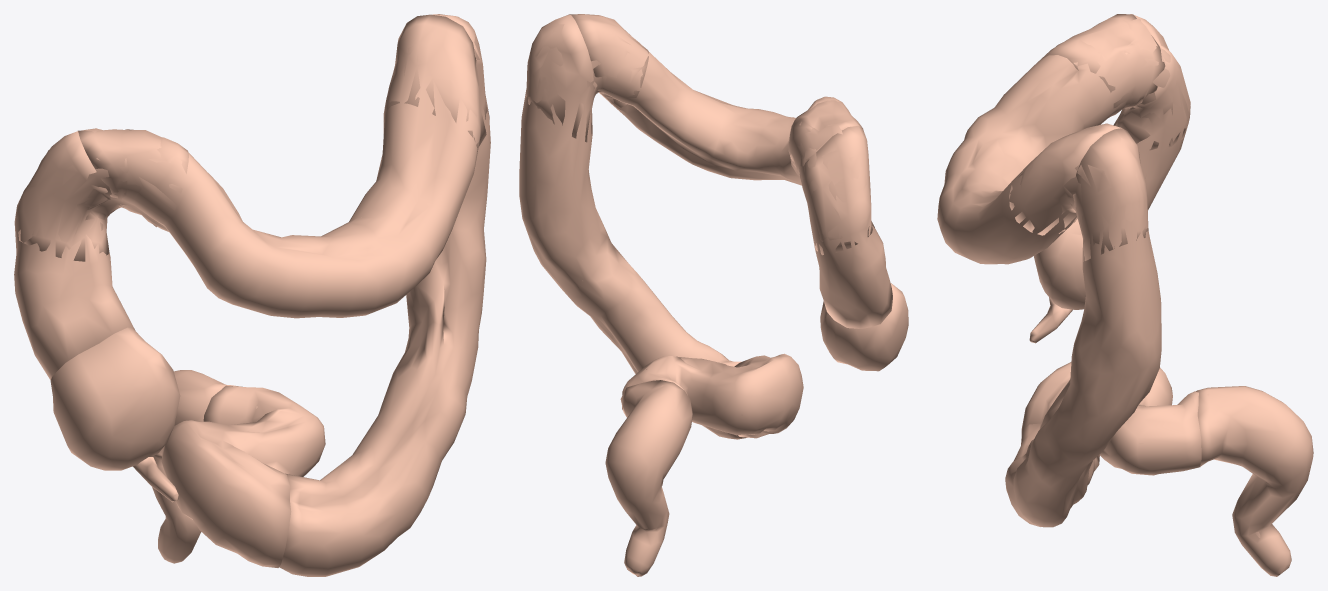
The model's file is sbu_f_intestine_large-40.glb.
3 views of the same model, side by side, from view 1: azimuth 30°, elevation 25°; view 2: azimuth 150°, elevation 25°; view 3: azimuth 270°, elevation 25° (orthographic). The views are drawn at different scales.
Visible parts, largest first — view 1: VH_F_transverse_colon, VH_F_descending_colon, VH_F_sigmoid_colon, VH_F_ascending_colon, VH_F_caecum, VH_F_hepatic_flexure_of_colon, VH_F_rectum, VH_F_splenic_flexure_of_colon, VH_F_vermiform_appendix; view 2: VH_F_descending_colon, VH_F_transverse_colon, VH_F_ascending_colon, VH_F_rectum, VH_F_sigmoid_colon, VH_F_caecum, VH_F_splenic_flexure_of_colon, VH_F_hepatic_flexure_of_colon; view 3: VH_F_descending_colon, VH_F_transverse_colon, VH_F_rectum, VH_F_sigmoid_colon, VH_F_hepatic_flexure_of_colon, VH_F_ascending_colon, VH_F_splenic_flexure_of_colon, VH_F_caecum, VH_F_vermiform_appendix.
Boxes of the visible parts, <box> form: VH_F_transverse_colon: <box>78,14,480,318</box>; VH_F_descending_colon: <box>279,14,490,576</box>; VH_F_sigmoid_colon: <box>161,385,325,567</box>; VH_F_ascending_colon: <box>14,131,135,379</box>; VH_F_caecum: <box>50,327,180,470</box>; VH_F_hepatic_flexure_of_colon: <box>15,128,188,261</box>; VH_F_rectum: <box>152,370,240,563</box>; VH_F_splenic_flexure_of_colon: <box>383,14,489,151</box>; VH_F_vermiform_appendix: <box>133,457,178,502</box>; VH_F_descending_colon: <box>519,14,746,439</box>; VH_F_transverse_colon: <box>569,14,862,185</box>; VH_F_ascending_colon: <box>800,126,892,328</box>; VH_F_rectum: <box>605,380,692,576</box>; VH_F_sigmoid_colon: <box>622,353,803,438</box>; VH_F_caecum: <box>820,283,908,371</box>; VH_F_splenic_flexure_of_colon: <box>525,17,648,142</box>; VH_F_hepatic_flexure_of_colon: <box>788,96,874,255</box>; VH_F_descending_colon: <box>1005,128,1161,527</box>; VH_F_transverse_colon: <box>937,14,1165,264</box>; VH_F_rectum: <box>1196,386,1313,576</box>; VH_F_sigmoid_colon: <box>1021,362,1201,475</box>; VH_F_hepatic_flexure_of_colon: <box>1042,18,1190,150</box>; VH_F_ascending_colon: <box>1113,14,1190,209</box>; VH_F_splenic_flexure_of_colon: <box>1009,129,1148,261</box>; VH_F_caecum: <box>1034,219,1085,309</box>; VH_F_vermiform_appendix: <box>1029,297,1072,343</box>.
Size of the model in its own units: 0.2431 by 0.2951 by 0.1934.
